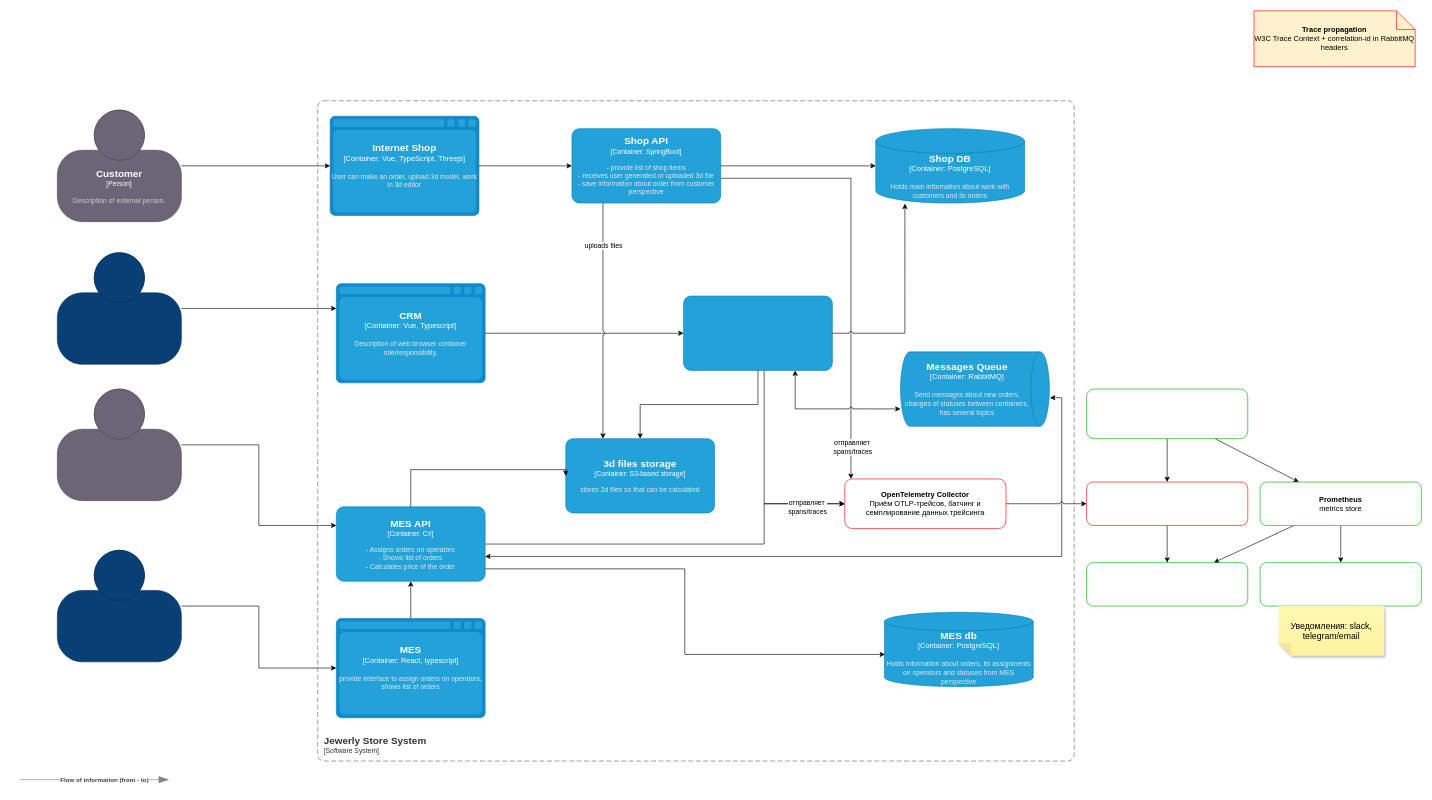
The diagram is 1432 pixels wide and 800 high, and some of its shapes have lost their labels. The centre of each missing label's shape, as x and y in pixels:
"Alertmanager routing & notifications" belongs at (1340,584).
"API user [Person] Description of external person." belongs at (119,444).
"CRM API [Container: SpringBoot] Description of container role/responsibility." belongs at (757,332).
"Grafana dashboards (traces+metrics)" belongs at (1167,584).
"Operator [Person] Takes order in work, manufactures jewerly" belongs at (119,606).
"Order Flow Monitor Строит метрики жизненного цикла заказа по данным трейсинга" belongs at (1167,413).
"Seller [Person] Operates with order, confirms manufacturing for the user" belongs at (119,308).
"Tracing backend Jaeger / Grafana Tempo" belongs at (1167,503).
